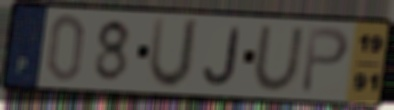0: (44, 12, 87, 84)
8: (92, 18, 133, 84)
J: (201, 25, 243, 88)
P: (299, 25, 352, 97)
U: (145, 14, 202, 92), (251, 25, 307, 94)
